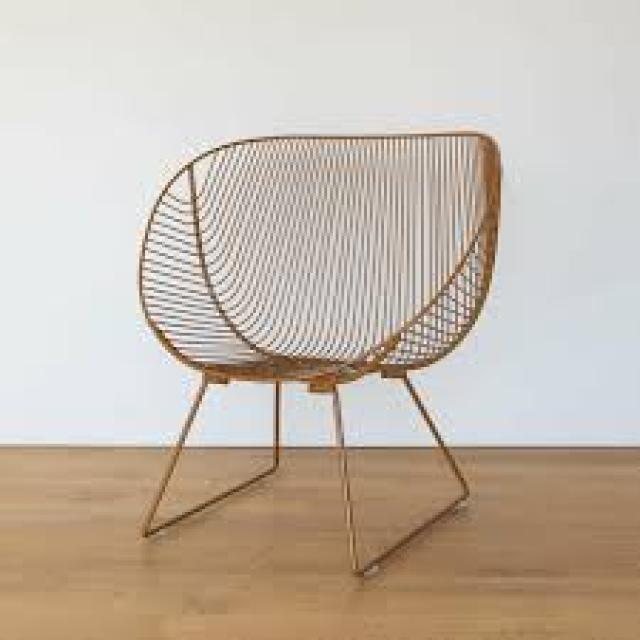chair: (82, 79, 556, 623)
